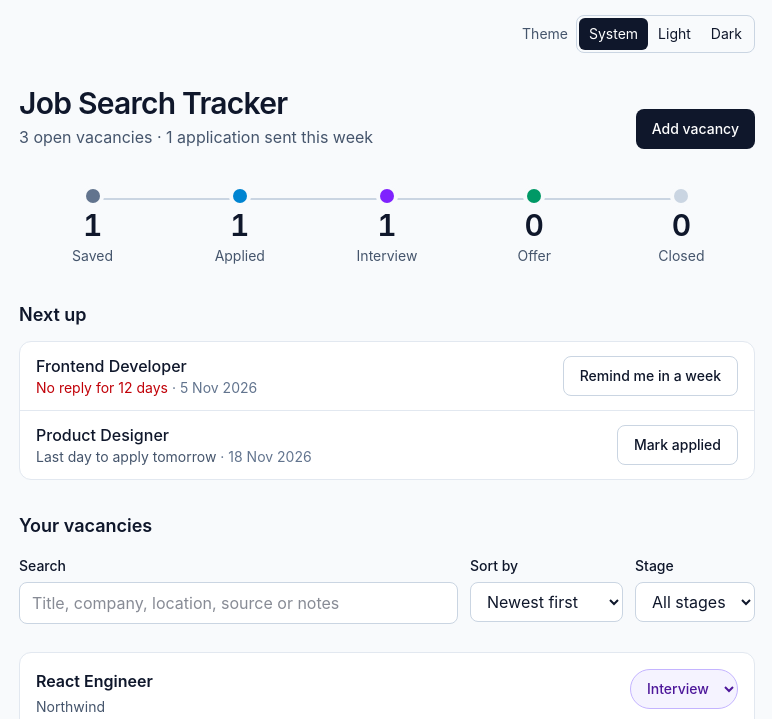
JobsPage overview › says so when nothing matches
This screenshot has width=772, height=719.
In the search field labelled "Search": (238, 602) [19,582,458,624], type "nothing like this"
(page scrolled)
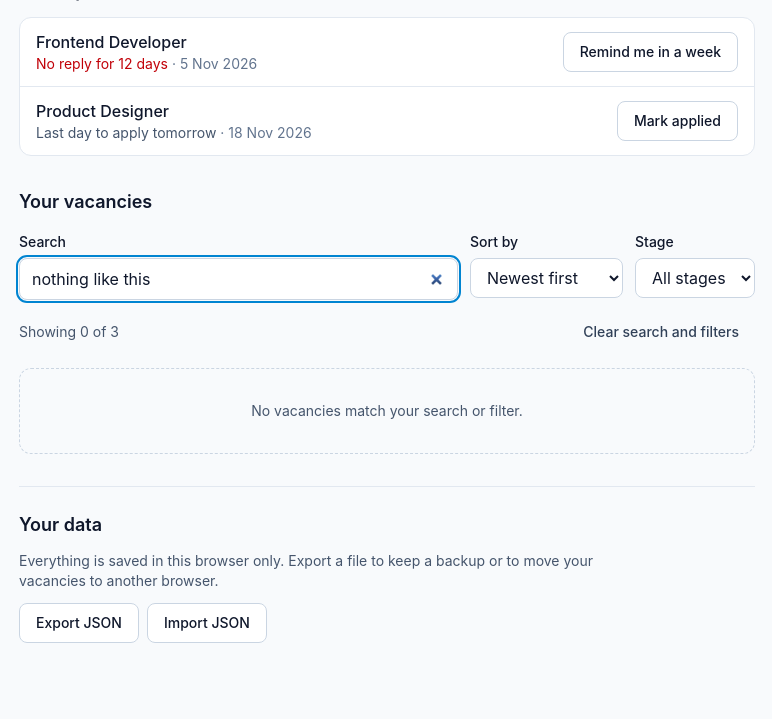
Check: the text "No vacancies match your search or filter." is shown, box [19,368,755,454]
